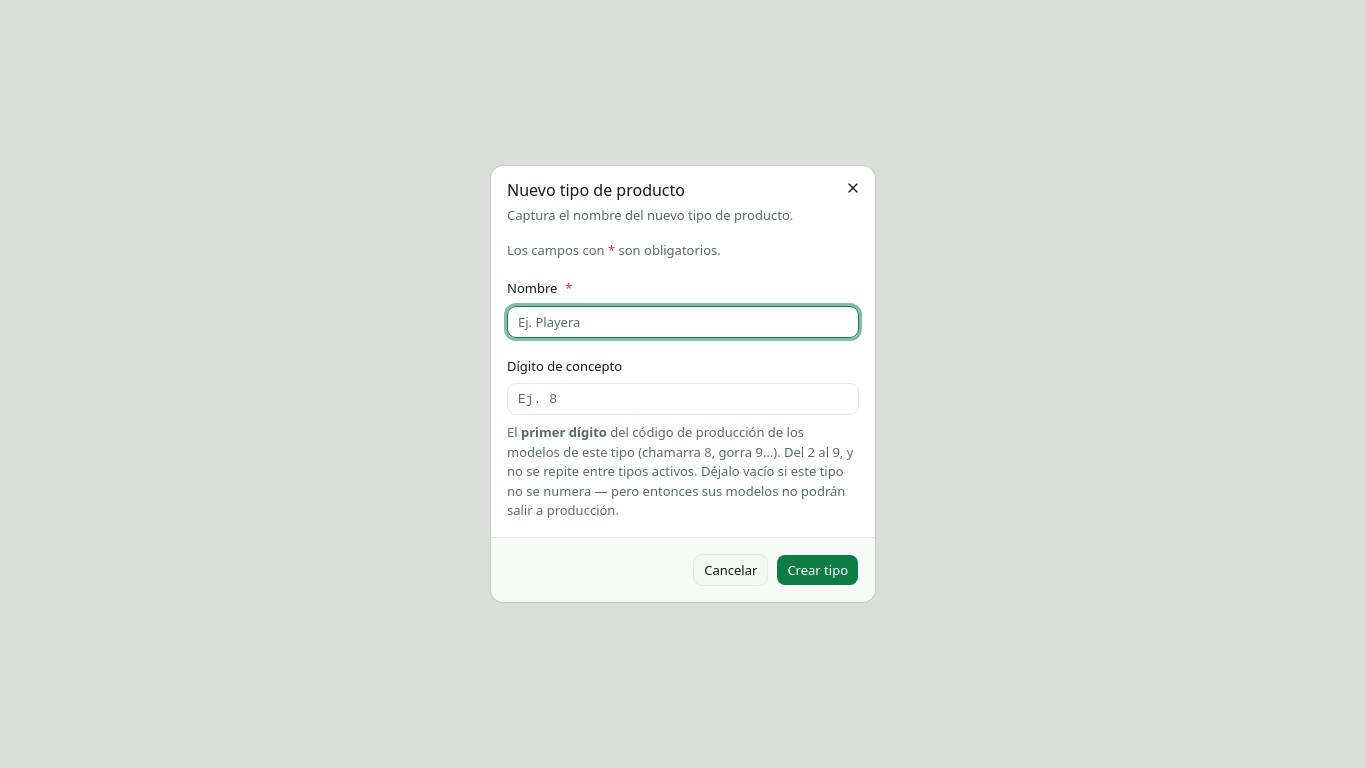
Test: <DialogoTipoProducto> · dígito de concepto › no deja guardar un dígito fuera del 2–9 (el 0 y el 1 no se usan)
Type "Raro" into the field labelled "Nombre *".
click(683, 322); type("Raro")  # box x1=507 y1=306 x2=859 y2=338
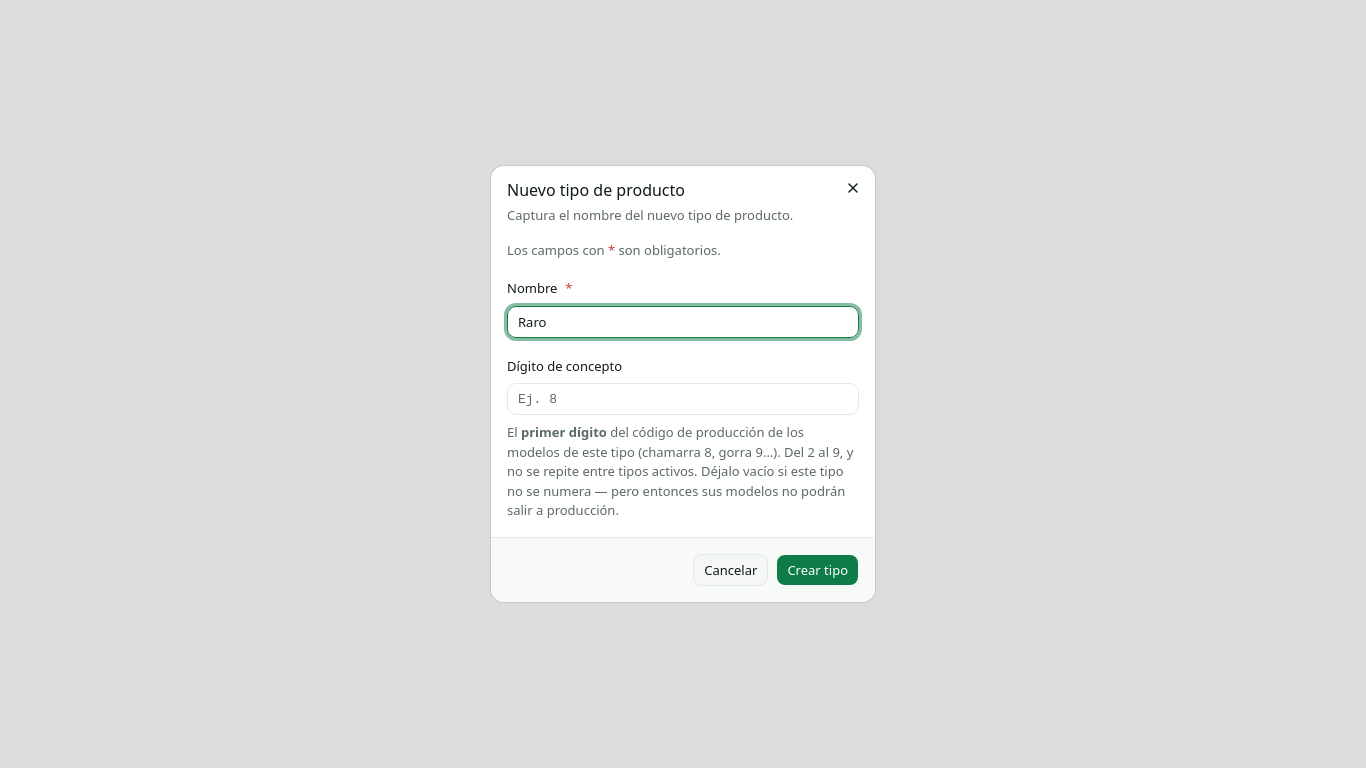
Type "1" into the field with test id "tipo-digito-concepto".
click(683, 400); type("1")  # box x1=507 y1=384 x2=859 y2=416
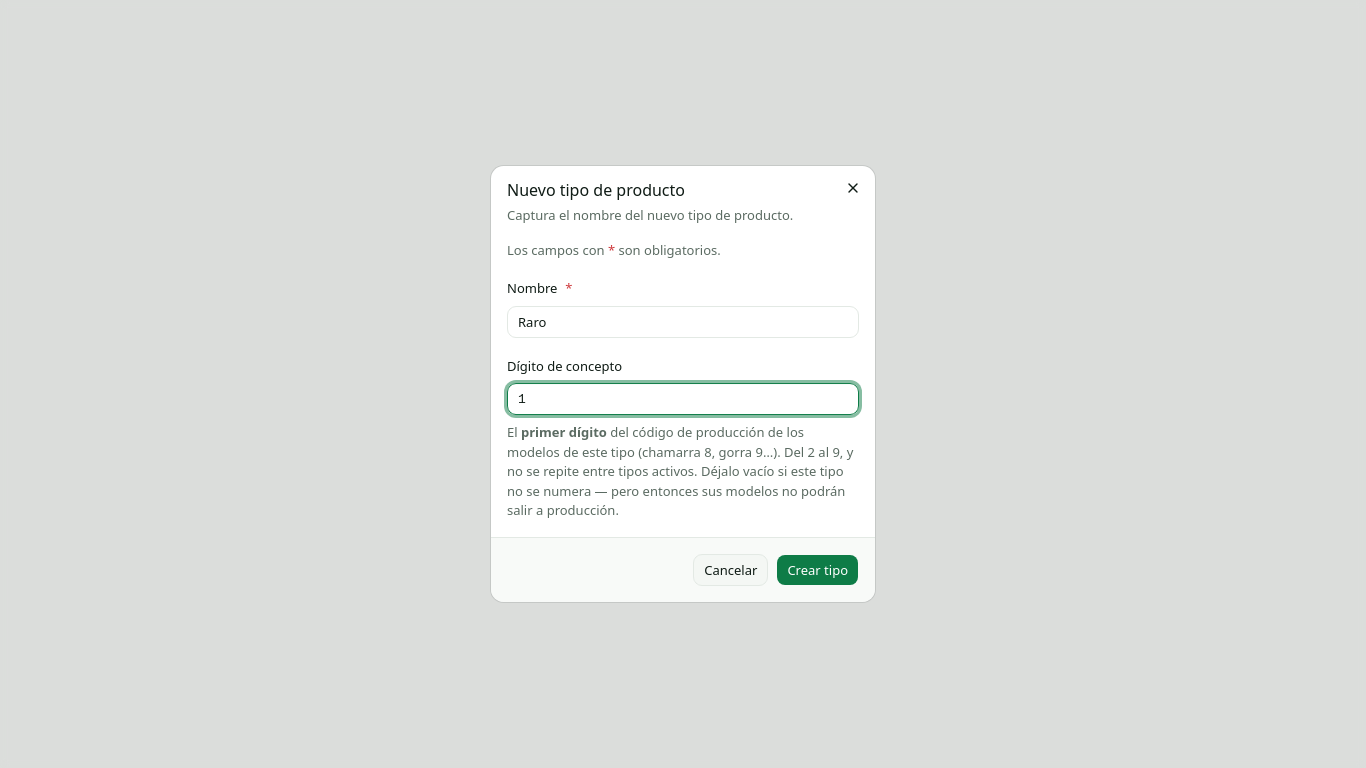
Click the button with test id "guardar-tipo-producto".
click(818, 570)  # box x1=776 y1=554 x2=859 y2=586
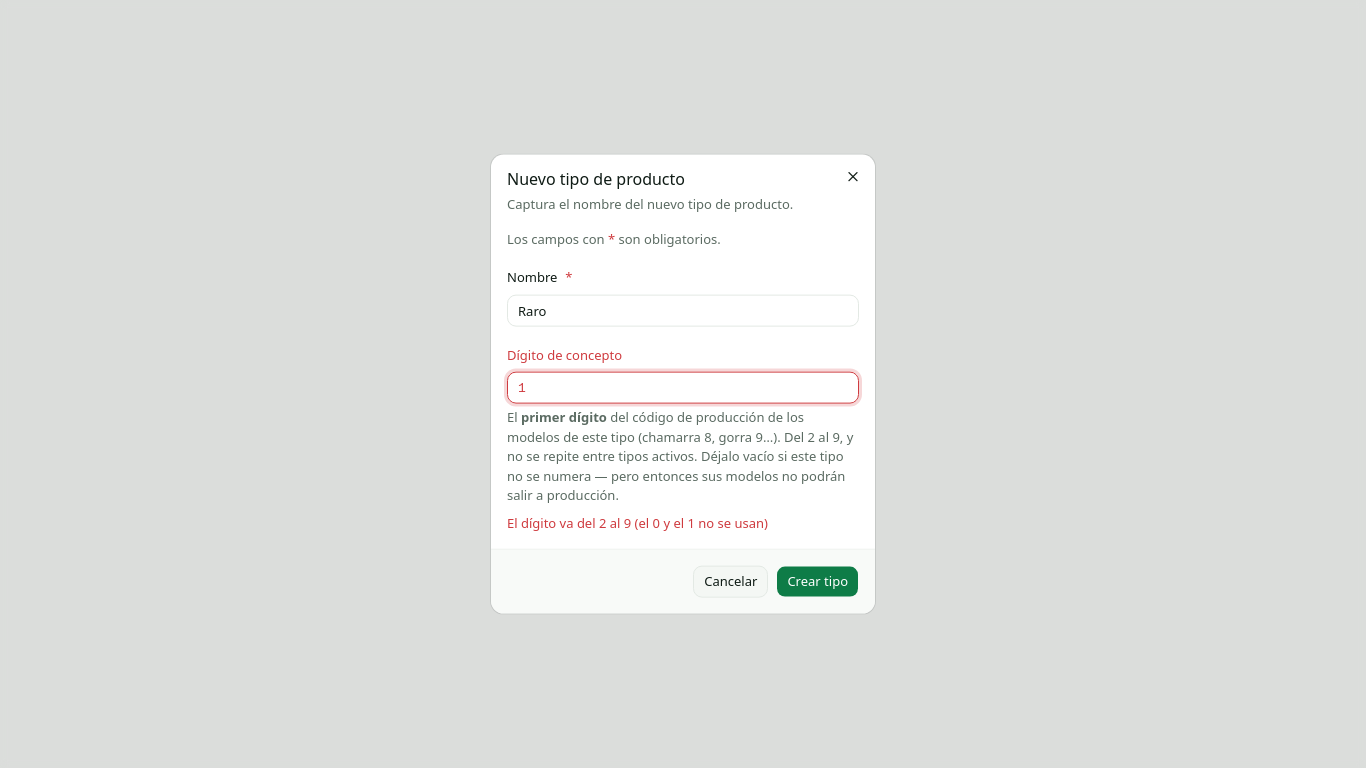
Now the text "El dígito va del 2 al 9 (el 0 y el 1 no se usan)" is shown, box x1=507 y1=514 x2=768 y2=532
